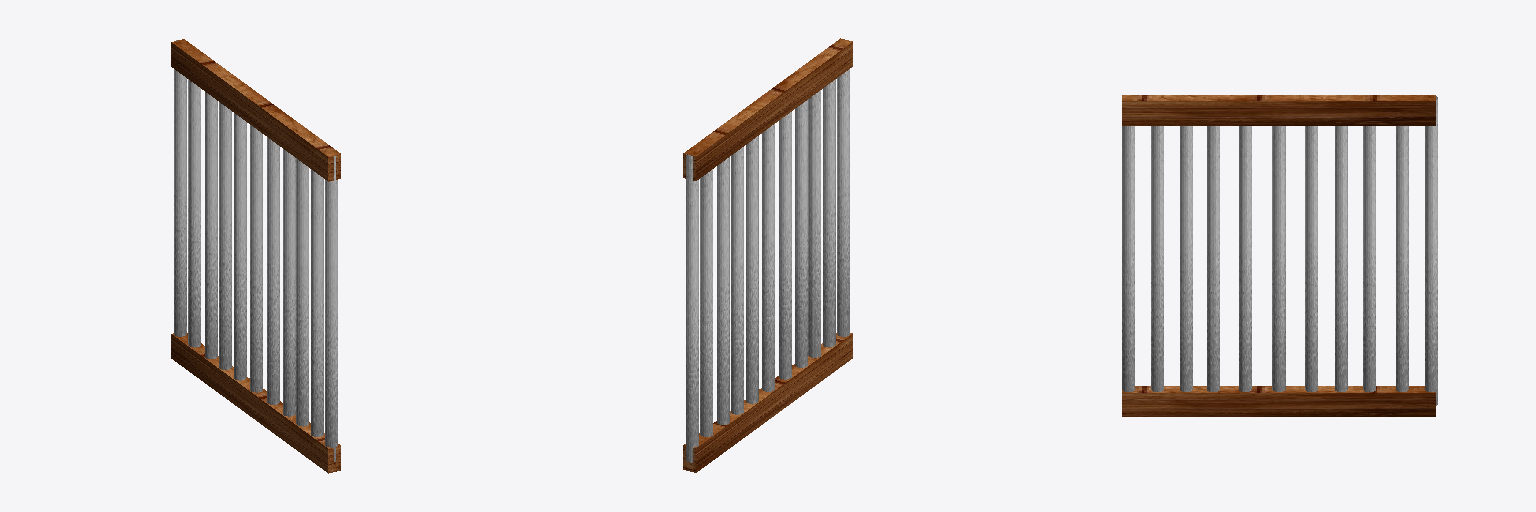
3 views of the same model, side by side, from view 1: azimuth 30°, elevation 25°; view 2: azimuth 150°, elevation 25°; view 3: azimuth 270°, elevation 25° (orthographic).
Visible parts, largest first — view 1: group3_pasted__pCylinder1; view 2: group3_pasted__pCylinder1; view 3: group3_pasted__pCylinder1.
Boxes of the visible parts, x1=… form: group3_pasted__pCylinder1: x1=171, y1=39, x2=340, y2=473; group3_pasted__pCylinder1: x1=683, y1=38, x2=852, y2=472; group3_pasted__pCylinder1: x1=1122, y1=95, x2=1437, y2=416.
Size of the model in its own units: 0.0488 by 1.15 by 1.04.
3 materials, 2 textured.